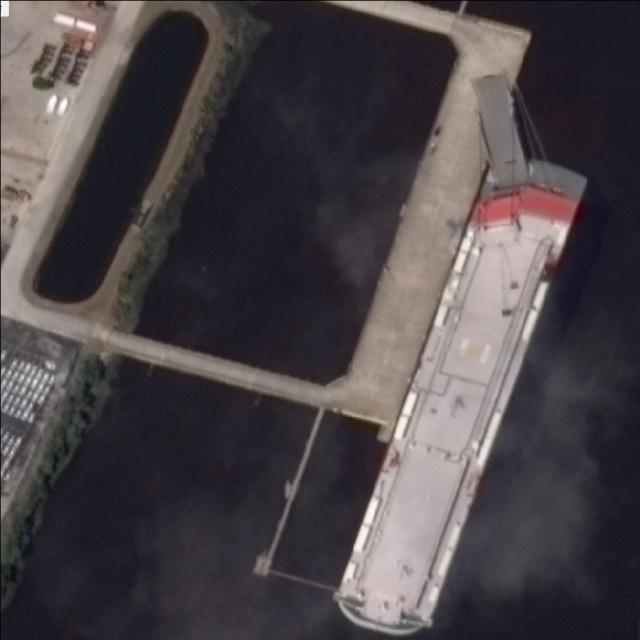RoRo: (325, 141, 589, 639)
